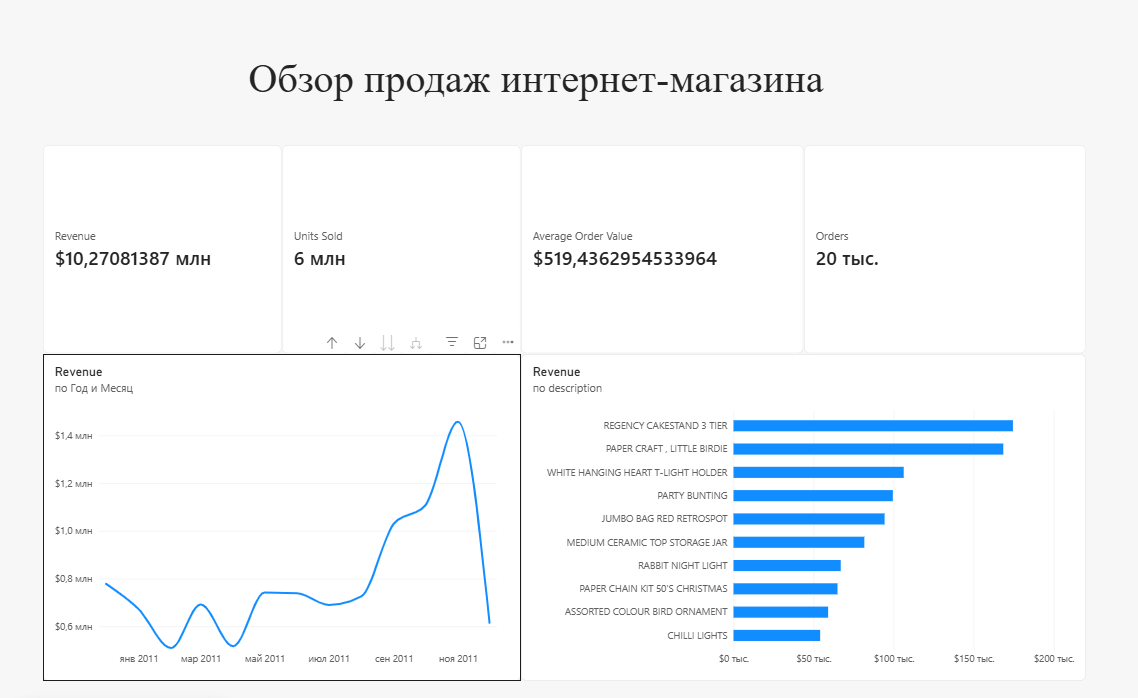

This screenshot's page, from the dashboard's own definition file:
{"tool":"powerbi","page":{"name":"Обзор продаж интернет-магазина","canvas":[1920,1080],"ordinal":0},"visuals":[{"type":"cardVisual","fields":{"Data":["public online_retail_sales.Revenue"]},"box":[240.7,245.1,348.7,304.9],"z":0},{"type":"cardVisual","fields":{"Data":["public online_retail_sales.Average Order Value"]},"box":[938.1,245.1,412.9,304.9],"z":1000},{"type":"cardVisual","fields":{"Data":["public online_retail_sales.Orders"]},"box":[1351,245.1,411.4,304.9],"z":2000},{"type":"cardVisual","fields":{"Data":["public online_retail_sales.Units Sold"]},"box":[589.4,245.1,348.7,304.9],"z":3000},{"type":"lineChart","fields":{"Category":["public online_retail_sales.invoice_date.Изменение.Иерархия дат.Год","public online_retail_sales.invoice_date.Изменение.Иерархия дат.Месяц"],"Y":["public online_retail_sales.Revenue"]},"box":[240.7,550,697.4,477.1],"z":4000},{"type":"clusteredBarChart","fields":{"Category":["public online_retail_sales.description"],"Y":["public online_retail_sales.Revenue"]},"box":[938.1,550,824.3,477.1],"z":5000},{"type":"textbox","box":[0,115.3,1920,78.8],"z":6000}]}

Visuals, with their boxes on the page's 1920x1080 design canvas (x1, y1, x2, y2). These are canvas units, not pixel positions in the 1138x698 screenshot, which may show the page scaled, cropped or inside an application window:
cardVisual - public online_retail_sales.Revenue: l=241, t=245, r=589, b=550
cardVisual - public online_retail_sales.Average Order Value: l=938, t=245, r=1351, b=550
cardVisual - public online_retail_sales.Orders: l=1351, t=245, r=1762, b=550
cardVisual - public online_retail_sales.Units Sold: l=589, t=245, r=938, b=550
lineChart - public online_retail_sales.invoice_date.Изменение.Иерархия дат.Год x public online_retail_sales.invoice_date.Изменение.Иерархия дат.Месяц: l=241, t=550, r=938, b=1027
clusteredBarChart - public online_retail_sales.description x public online_retail_sales.Revenue: l=938, t=550, r=1762, b=1027
textbox: l=0, t=115, r=1920, b=194
